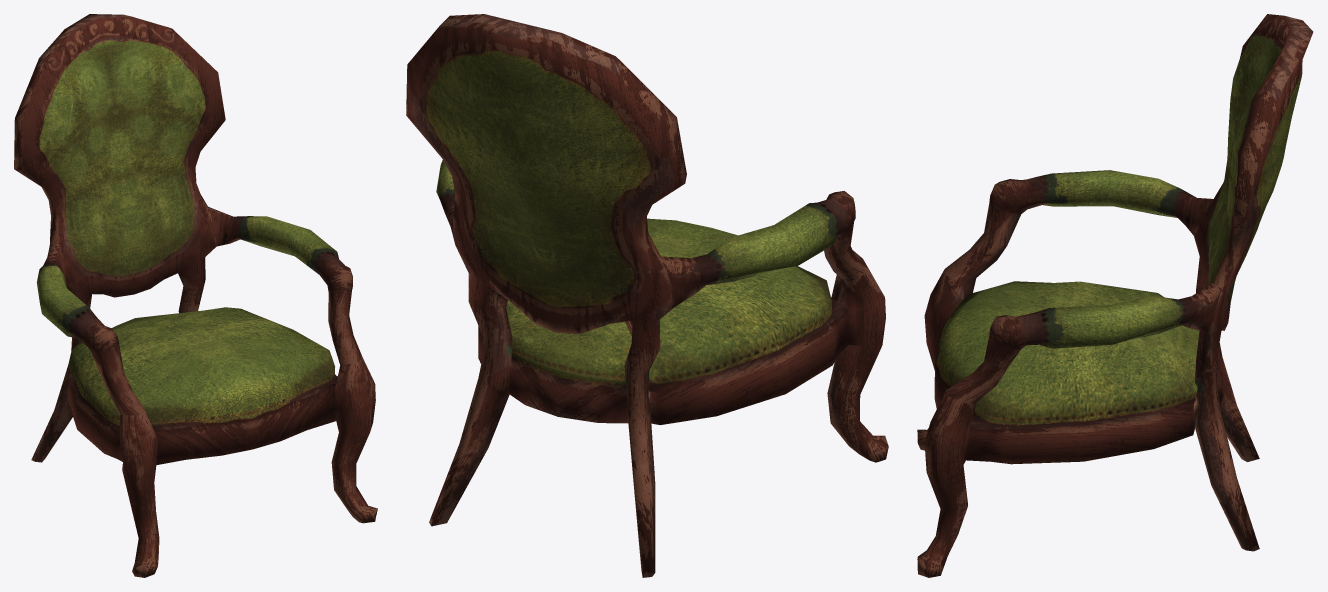
File: ChairOpen_LOD.fbx
3 views of the same model, side by side, from view 1: azimuth 30°, elevation 25°; view 2: azimuth 150°, elevation 25°; view 3: azimuth 270°, elevation 25° (orthographic). The views are drawn at different scales.
Visible parts, largest first — view 1: ChairOpen_LOD0; view 2: ChairOpen_LOD0; view 3: ChairOpen_LOD0.
Boxes of the visible parts, left/top/right/bottom form: ChairOpen_LOD0: left=14, top=14, right=377, bottom=577; ChairOpen_LOD0: left=406, top=14, right=888, bottom=577; ChairOpen_LOD0: left=917, top=14, right=1313, bottom=577.
Size of what is drawn, in the model's own units: 154 by 225 by 168.
